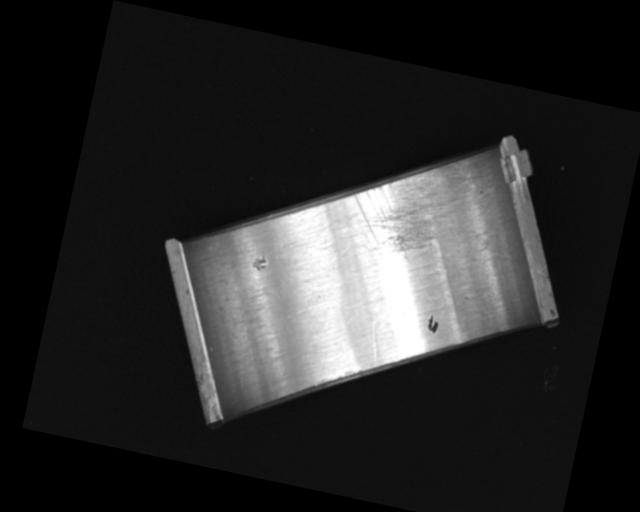blot: (426, 314, 441, 335)
bruise: (251, 251, 270, 272)
nick: (363, 319, 385, 364)
scratch: (344, 139, 466, 269)
